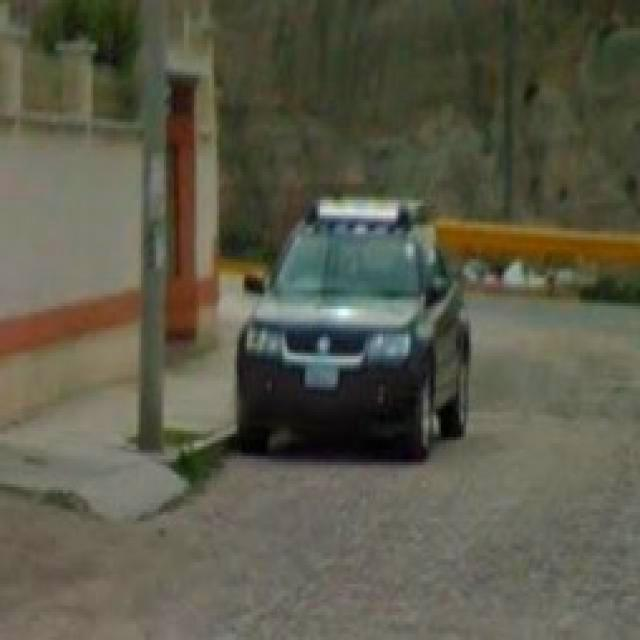Car: (224, 204, 476, 465)
